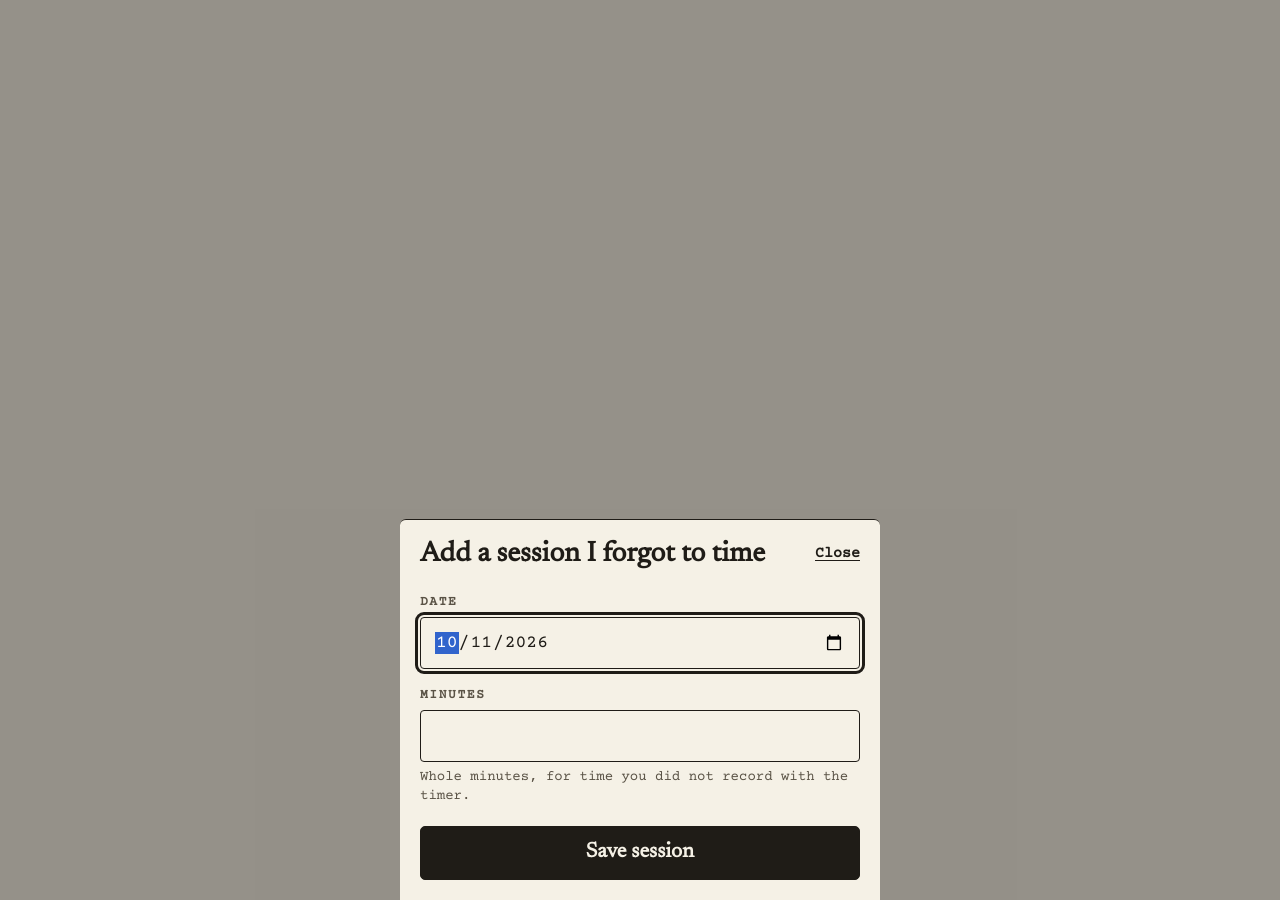
ManualEntrySheet › rejects blank minutes with "Enter whole minutes above 0" and stores nothing
The width and height of the screenshot is (1280, 900).
Click the button "Save session".
click(640, 853)  # box [420,826,860,880]
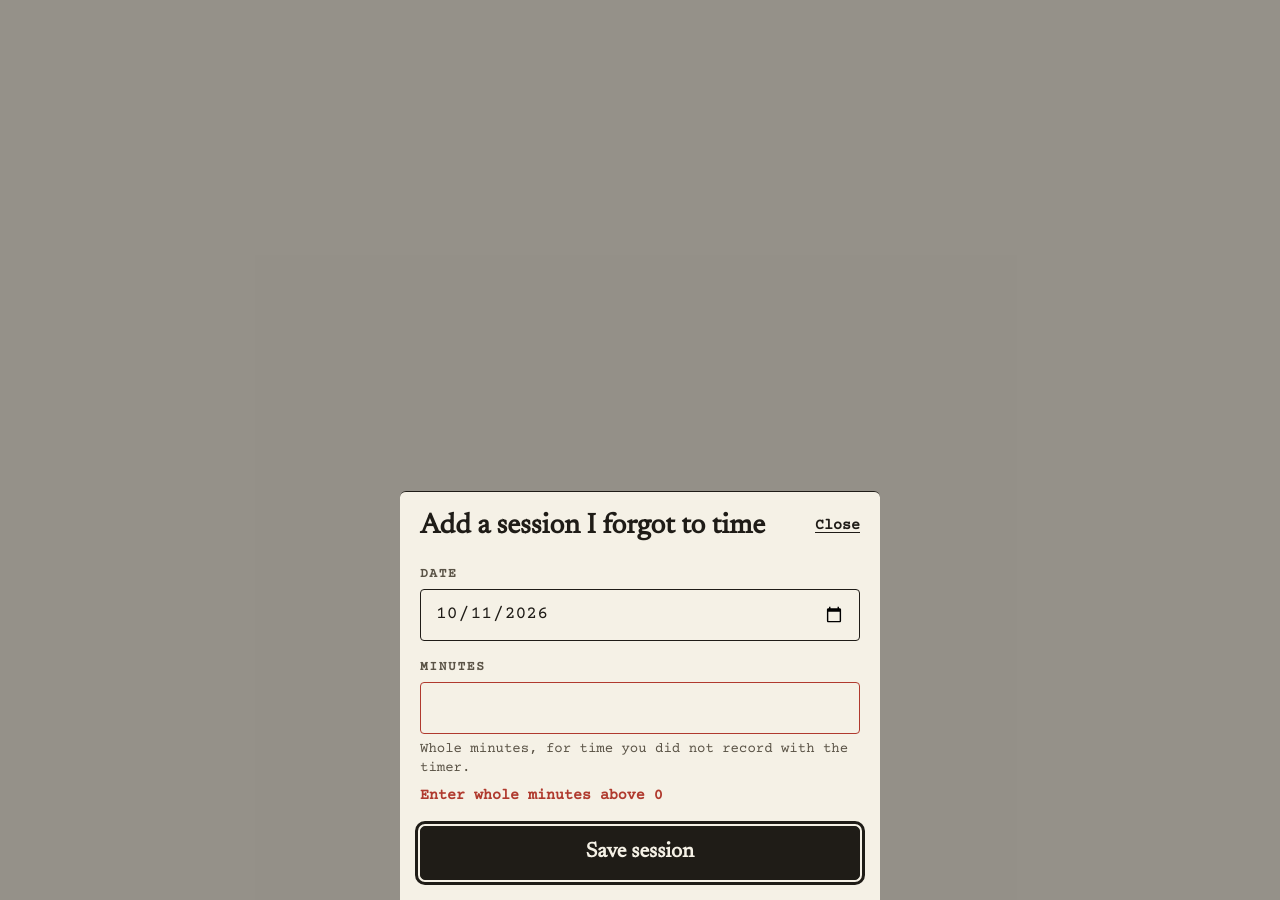
Now the message reads "Enter whole minutes above 0", box [420,787,663,804]
